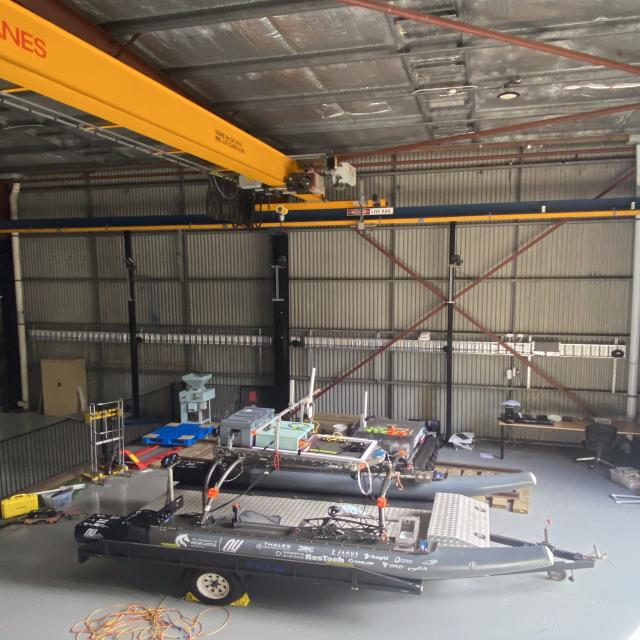matrix: (248, 390, 257, 401)
